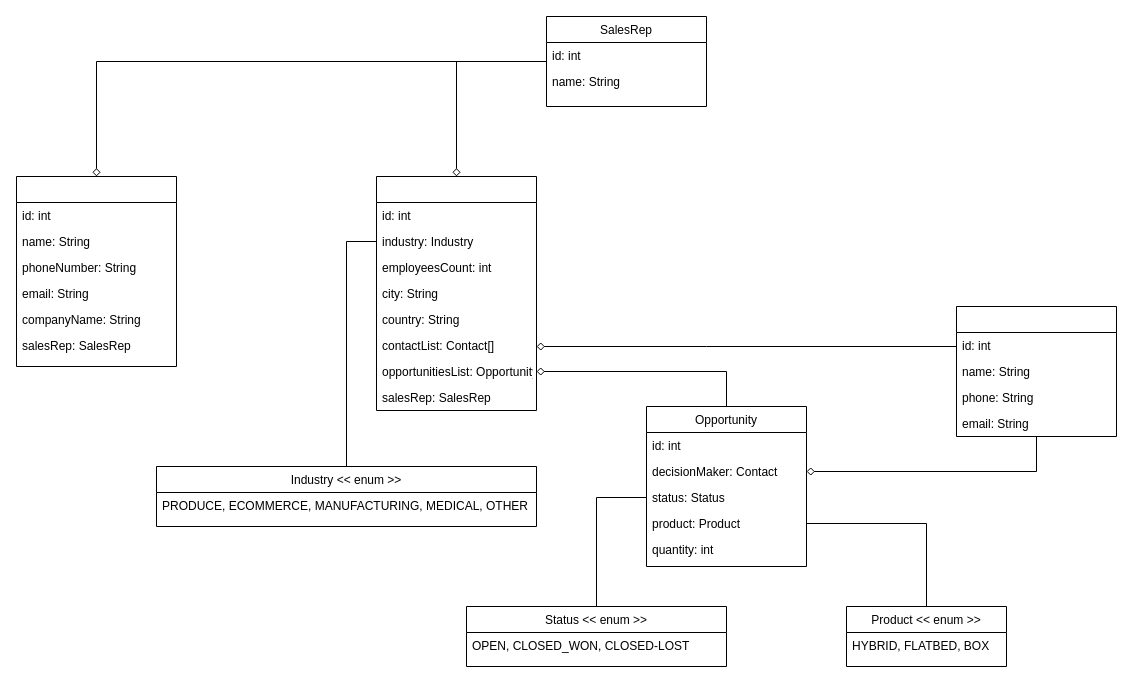
Some shapes in this 1133 by 683 pixel diagram are drawn without their labels. The shapes that lost their labels are listed below. From the top down, each one's box as (x1, y1, x2, y2) in pixels, then its label:
(16, 176, 176, 366): Lead
(376, 176, 536, 410): Account
(956, 306, 1116, 436): Contact
